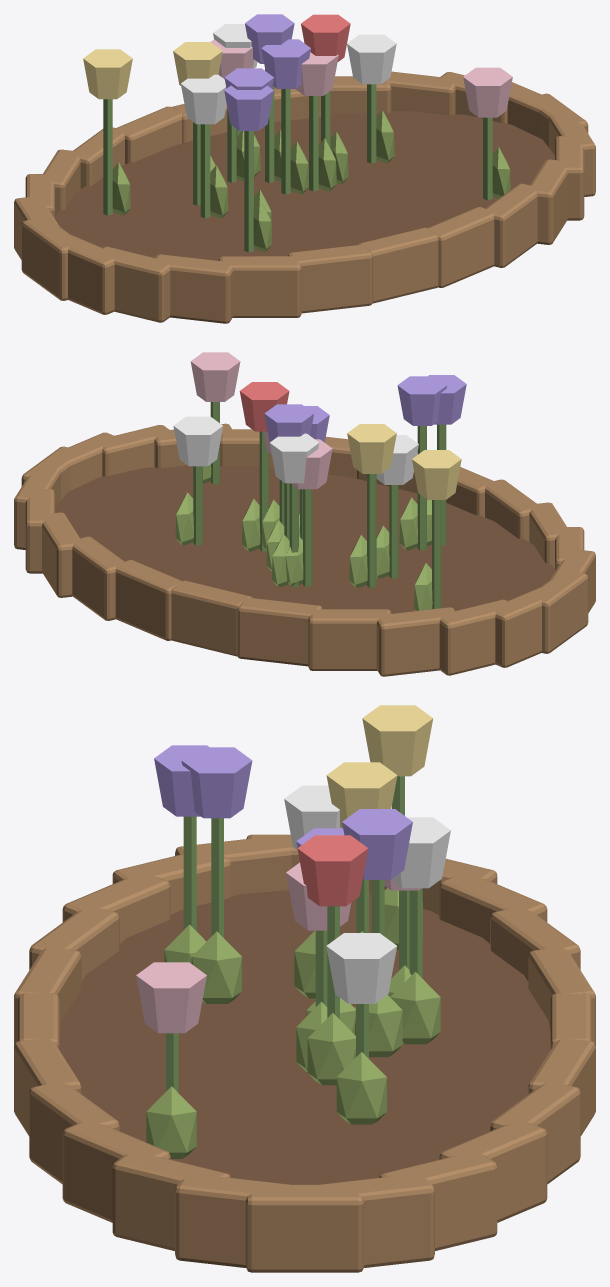
The picture shows the model from 3 angles, top to bottom: view 1: azimuth 30°, elevation 25°; view 2: azimuth 150°, elevation 25°; view 3: azimuth 270°, elevation 25°; orthographic projection. The views are drawn at different scales.
Parts seen in each view (by area): view 1: Deco flower_bed; view 2: Deco flower_bed; view 3: Deco flower_bed.
Part boxes in pixels (x1=…): Deco flower_bed: x1=14, y1=14, x2=595, y2=323; Deco flower_bed: x1=14, y1=352, x2=595, y2=676; Deco flower_bed: x1=14, y1=705, x2=595, y2=1272.
Bounding box in the file's own units: 2.06 × 0.7062 × 1.38.
